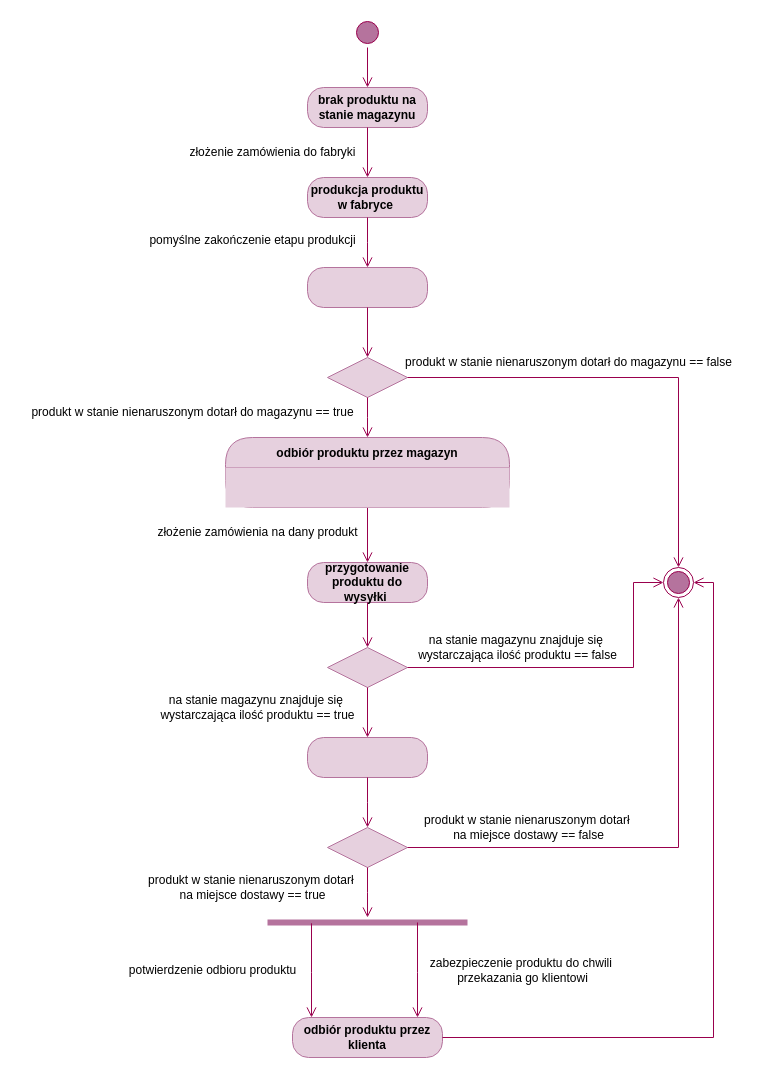
This 760x1075 diagram has some shape labels left out. The centre of each missing label's shape, as x and y in pixels:
sortowanie produktów umieszczenie produktów na odpowiednim dziale: (x=367, y=487)
transport produktu do klienta: (x=367, y=757)
transport produktu do magazynu: (x=367, y=287)
